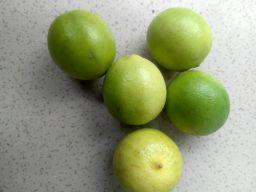lemon: (45, 8, 117, 83), (101, 52, 168, 127), (111, 126, 185, 192), (166, 66, 232, 138), (145, 5, 214, 72)
